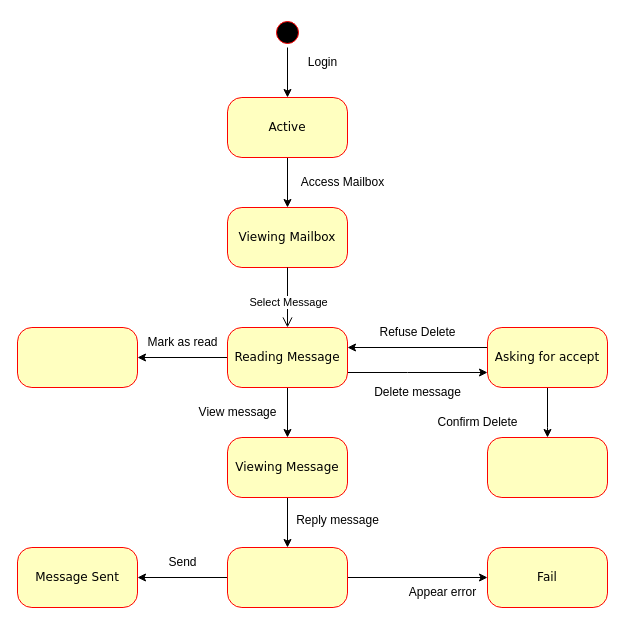
This 625x625 diagram has some shape labels left out. Each missing label, with the centre of its shape:
"Message Deleted" goes at point 547,467.
"Read" goes at point 77,357.
"Replying to Message" goes at point 287,577.
